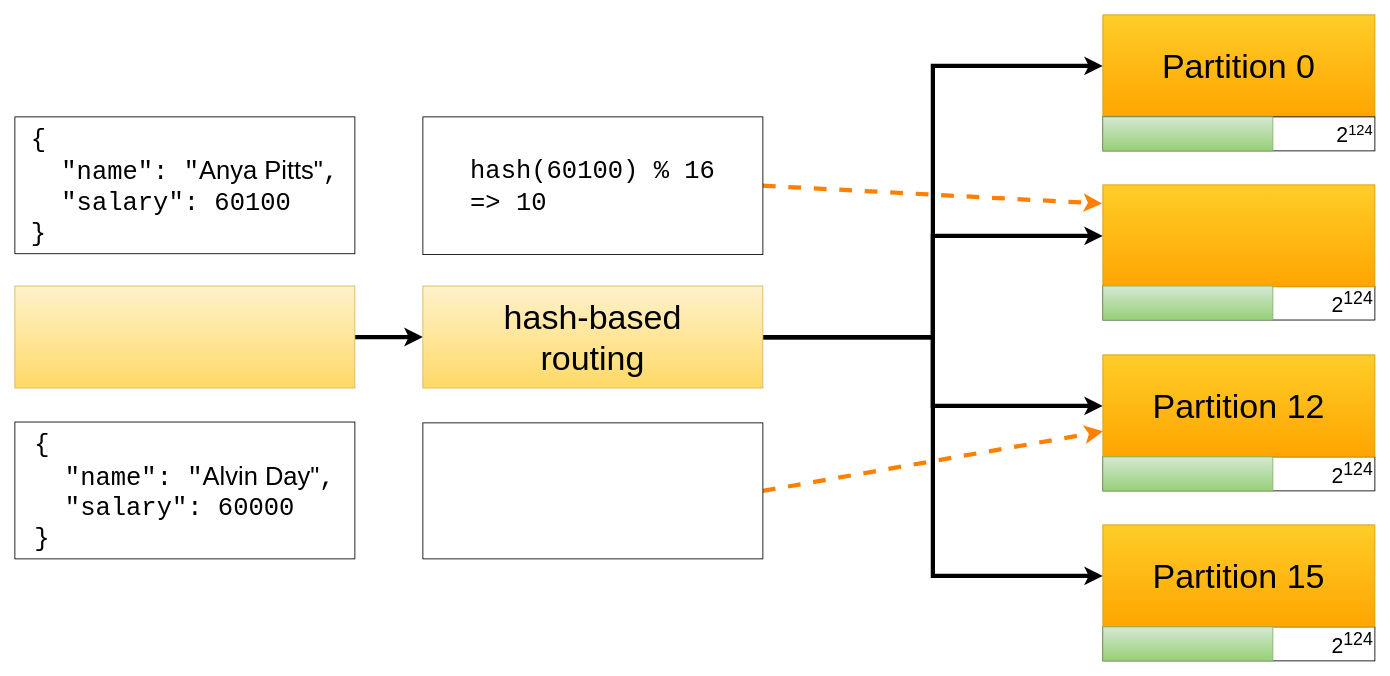
Some shapes in this 1390 by 676 pixel diagram are drawn without their labels. Each missing label, with the centre of its shape:
"Database" goes at point (184, 336).
"hash(60000) % 16 => 12" goes at point (592, 490).
"Partition 10" goes at point (1238, 235).
